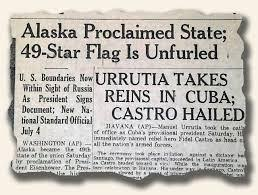Printing industry: (0, 4, 258, 195)
